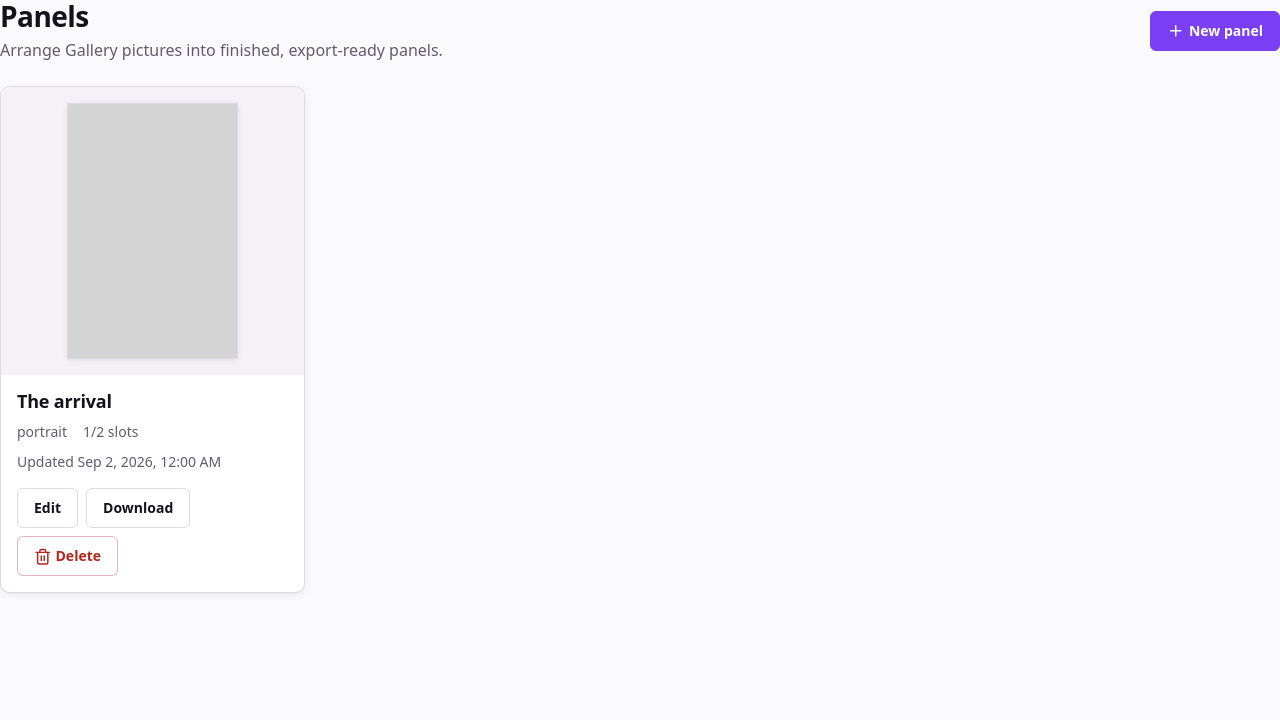
Test case: PanelListPage › shows rendered cards, direct download, and confirms deletion
Expected: the heading "The arrival" is shown, [17, 389, 112, 413]
Expected: the text "1/2 slots" is shown, [83, 421, 138, 443]
Click the button "Delete" at (68, 556), box [17, 536, 118, 576]
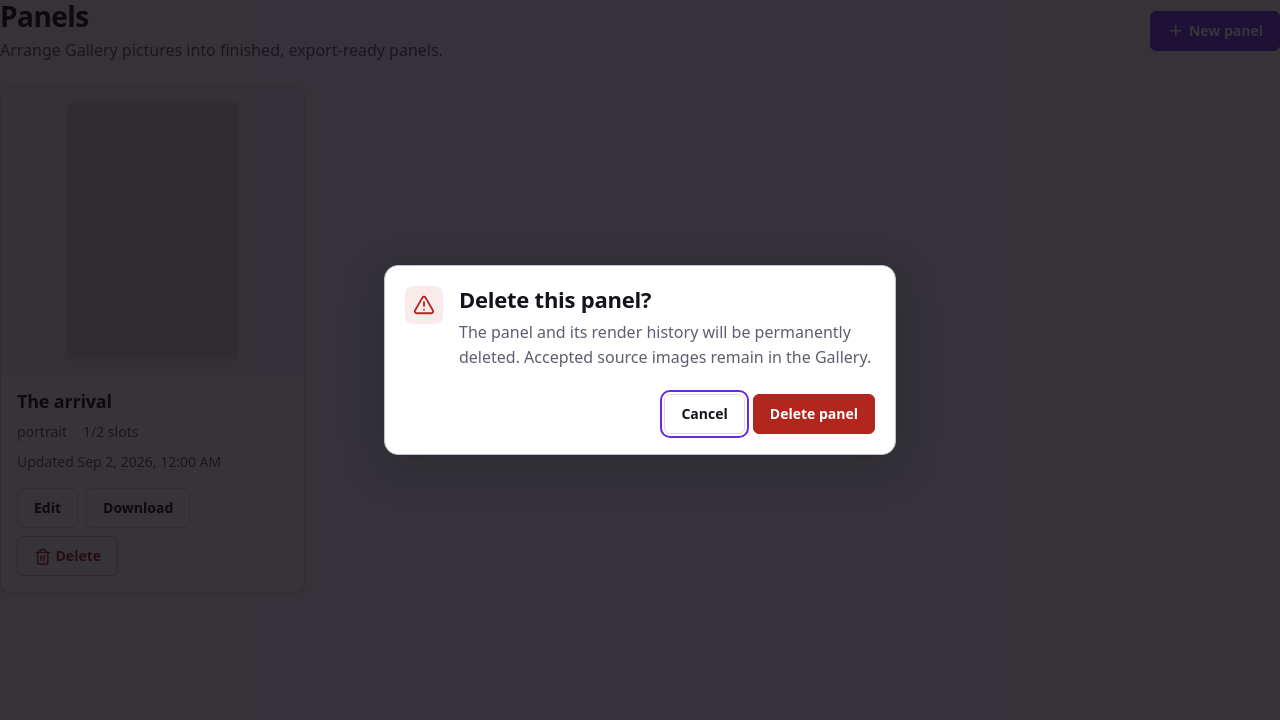
Click the button "Delete panel" at (814, 414), box [753, 394, 875, 434]
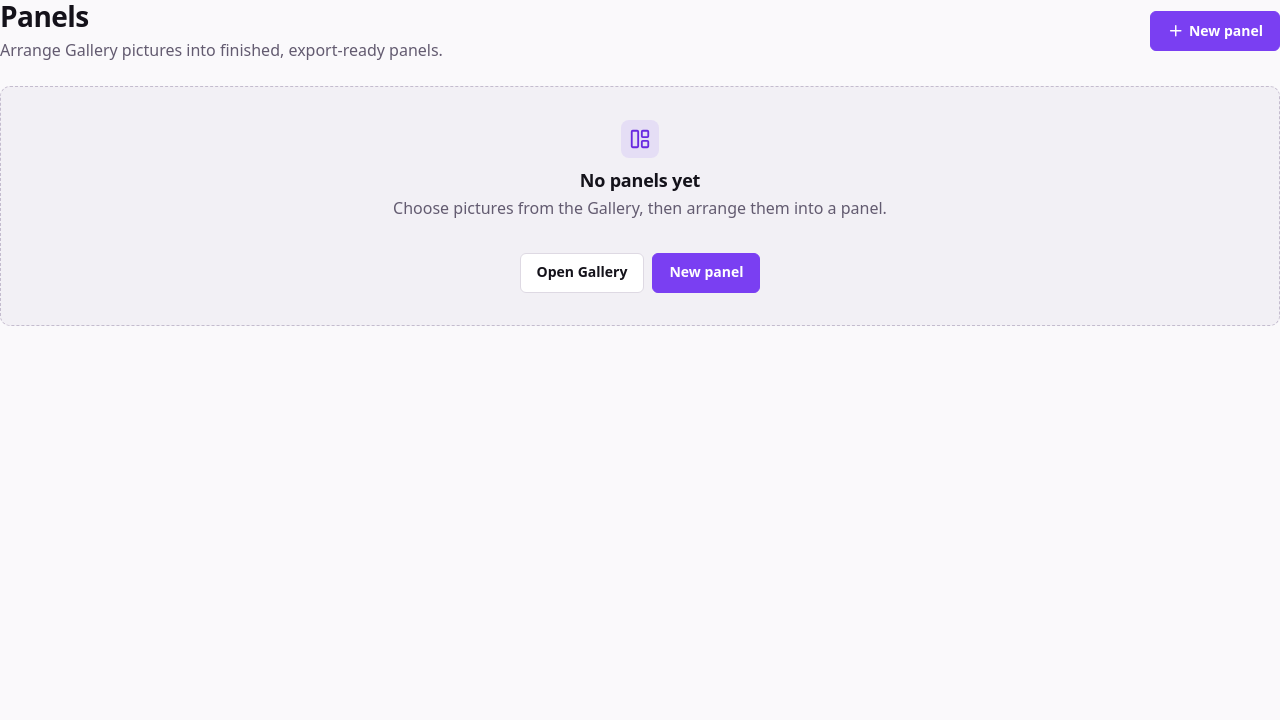
Expected: the heading "The arrival" is gone
